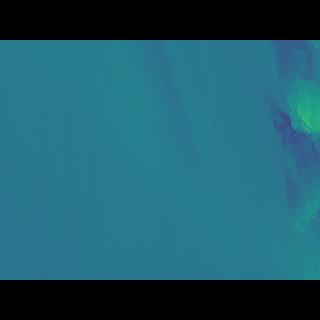Loch: (261, 69, 319, 227)
